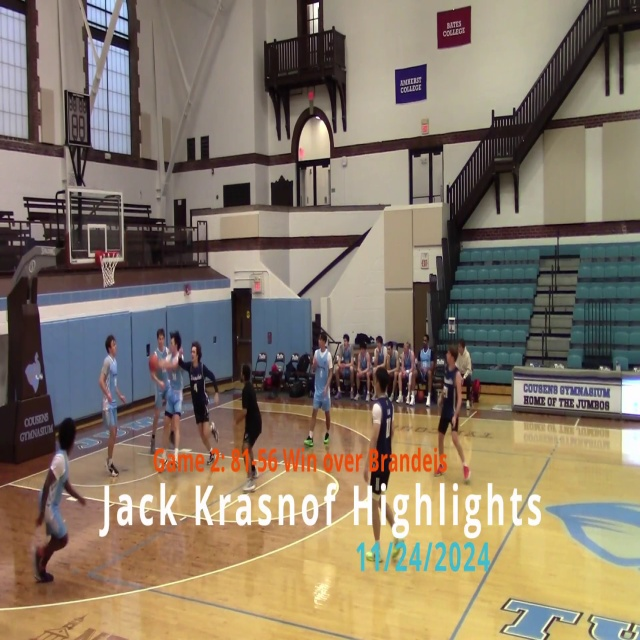Basketball: (148, 353, 178, 372), (371, 403, 382, 424), (148, 355, 159, 372), (364, 551, 375, 561)
